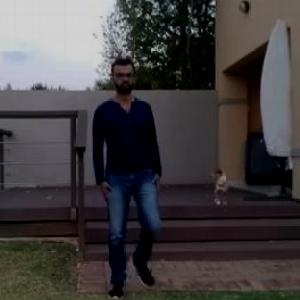follow: (94, 61, 151, 286)
